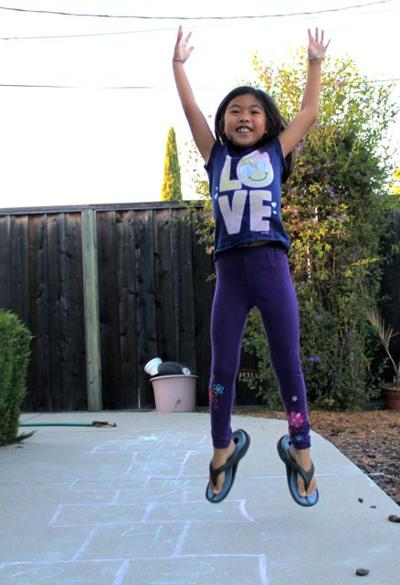person: (172, 22, 330, 507)
